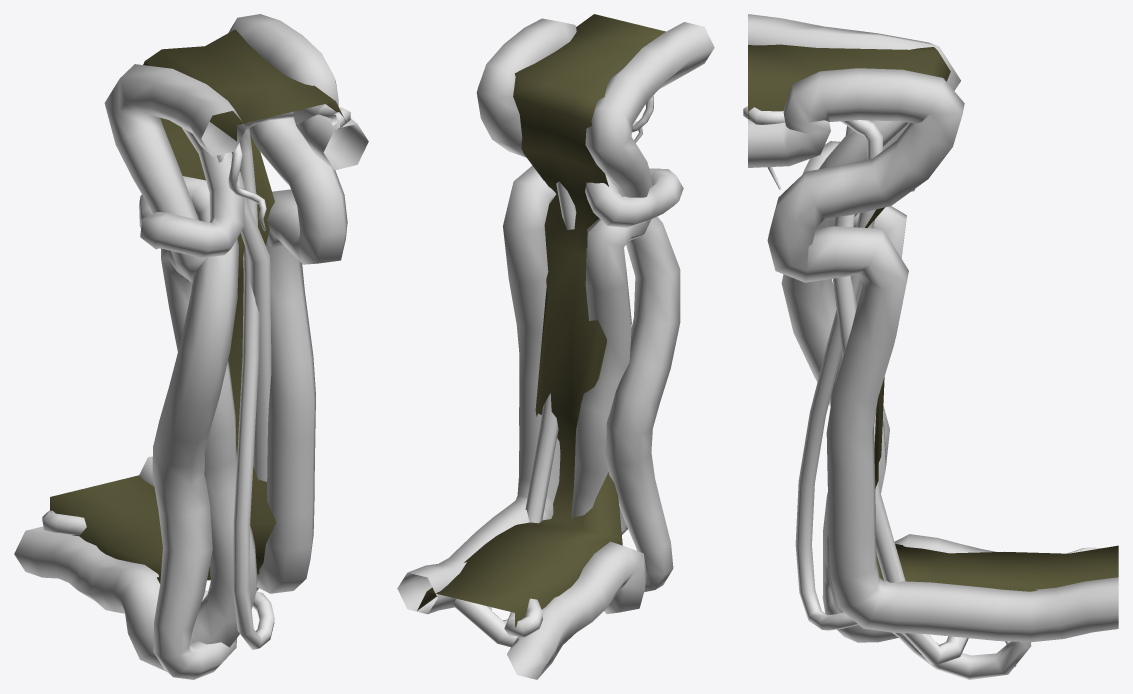
Rendered from Astep.fbx.
The picture shows the model from 3 angles, left to right: view 1: azimuth 30°, elevation 25°; view 2: azimuth 150°, elevation 25°; view 3: azimuth 270°, elevation 25°; orthographic projection. The views are drawn at different scales.
Visible parts, largest first — view 1: NurbsPath.007, DummyPlane.010; view 2: NurbsPath.007, DummyPlane.010; view 3: NurbsPath.007, DummyPlane.010.
Part boxes in pixels (x1=…): NurbsPath.007: x1=14, y1=14, x2=368, y2=679; DummyPlane.010: x1=50, y1=29, x2=346, y2=583; NurbsPath.007: x1=397, y1=18, x2=714, y2=679; DummyPlane.010: x1=417, y1=14, x2=665, y2=627; NurbsPath.007: x1=743, y1=14, x2=1118, y2=679; DummyPlane.010: x1=748, y1=44, x2=1118, y2=591.
Bounding box in the file's own units: 110 × 372 × 202.
